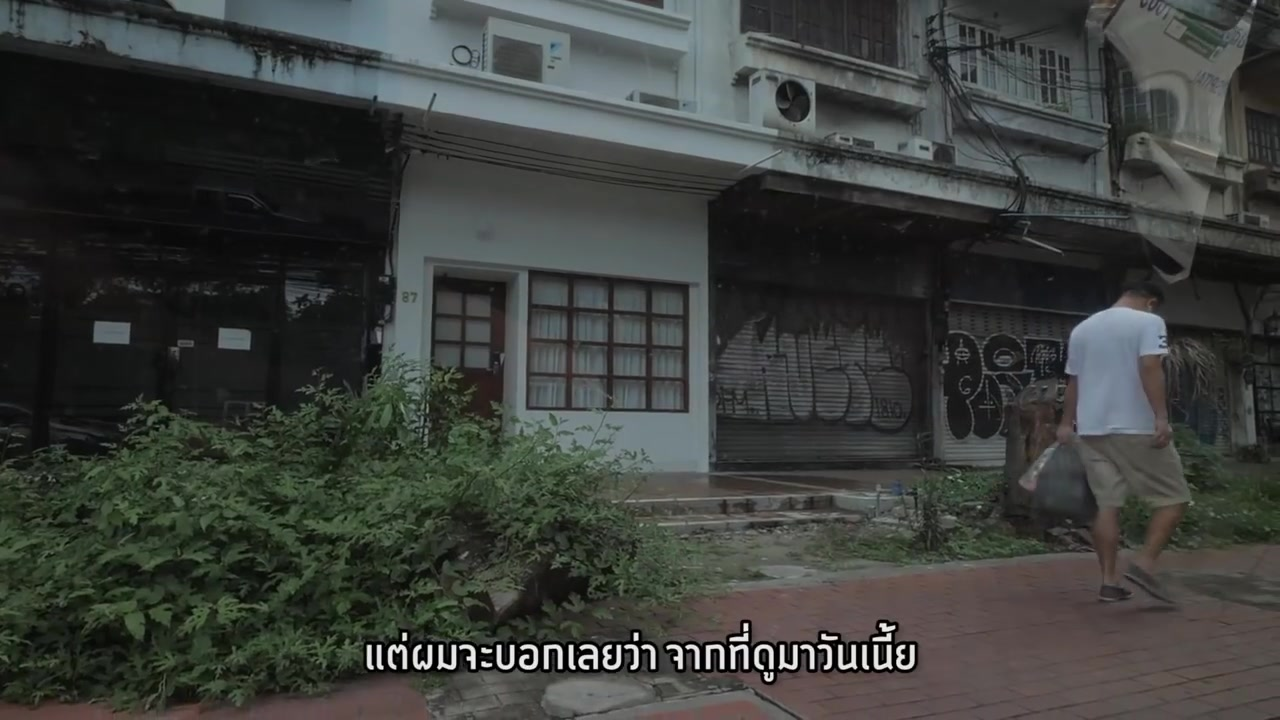text-label: (359, 619, 923, 687)
